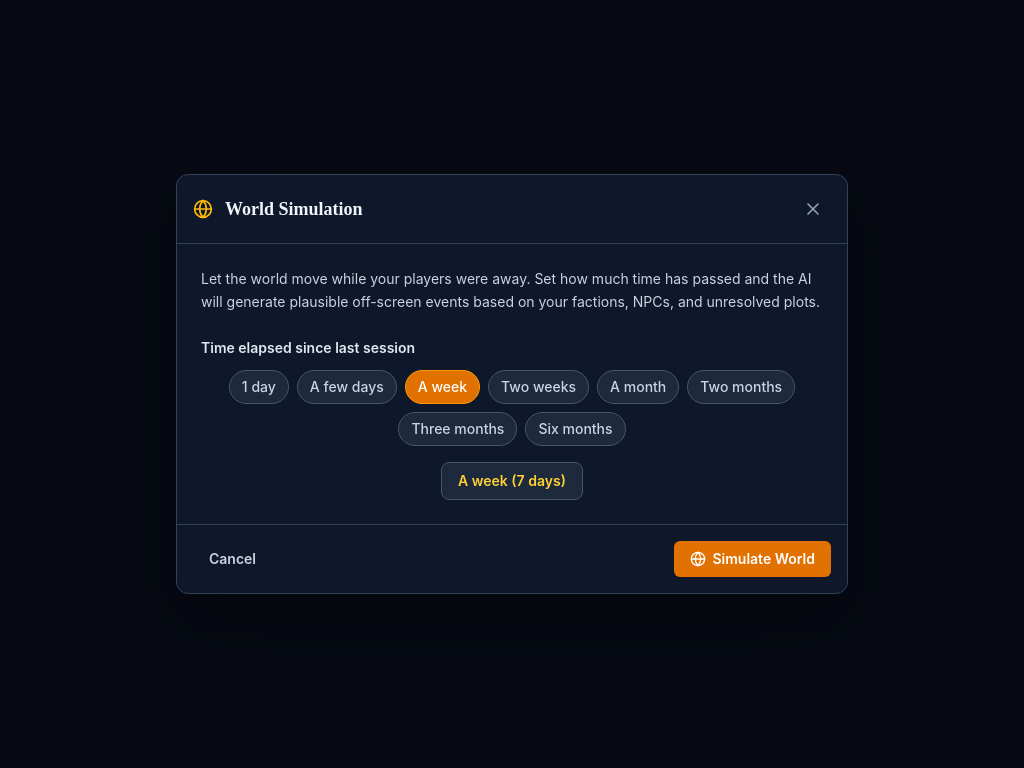
Test: WorldSimulationWizard confirms a destructive apply before closing › reports the number of entity fields actually written, not just the approved event count (finding #24b)
Click the button "Simulate World". click: (753, 559)
box: [674,541,831,577]
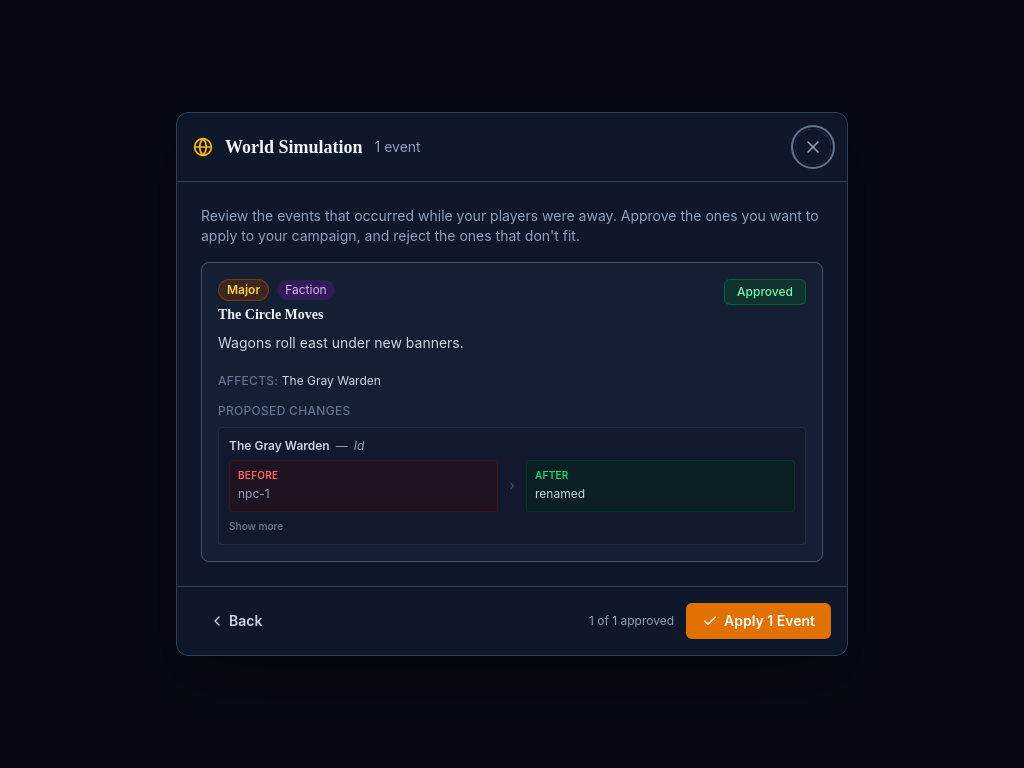
Click the button "Apply 1 Event". click: (759, 621)
box: [686,603,831,639]
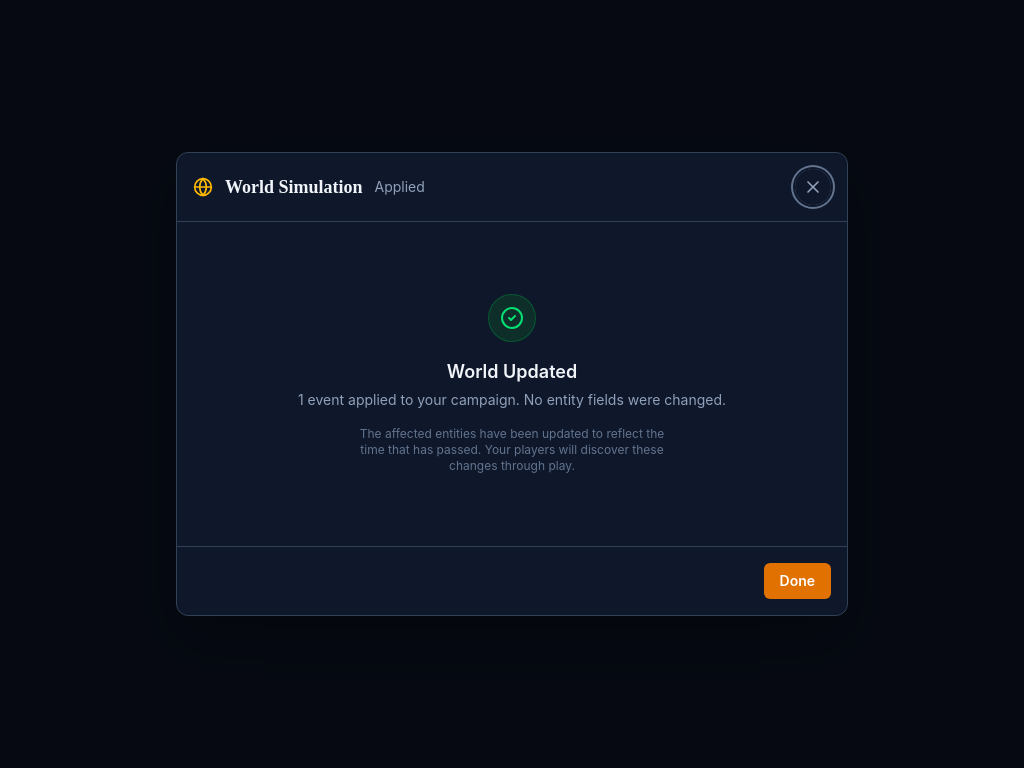
Expected: the text "1 event applied to your campaign." is shown, [298,391,524,408]
Expected: the text "No entity fields were changed." is shown, [524,391,726,408]
